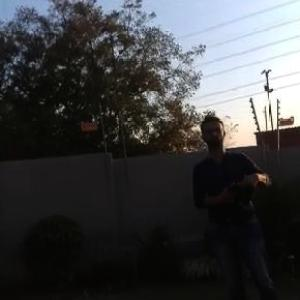follow: (188, 113, 284, 299)
